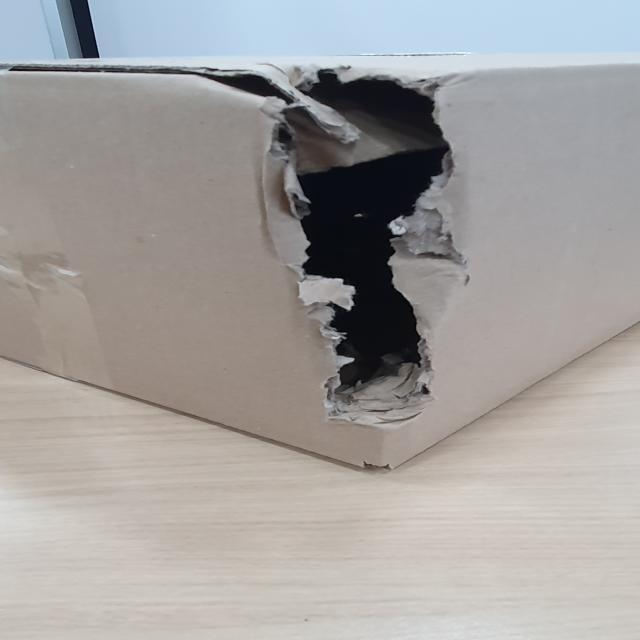hole: (219, 61, 473, 435)
